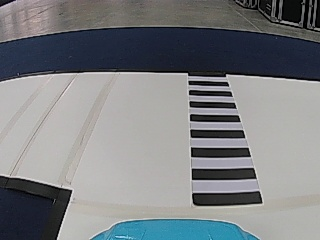CrossWalk: (185, 73, 263, 203)
